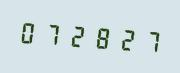eight: (90, 20, 113, 54)
seven: (41, 16, 64, 51), (138, 23, 161, 57)
two: (114, 21, 137, 56), (66, 18, 89, 52)
zero: (17, 15, 40, 49)
